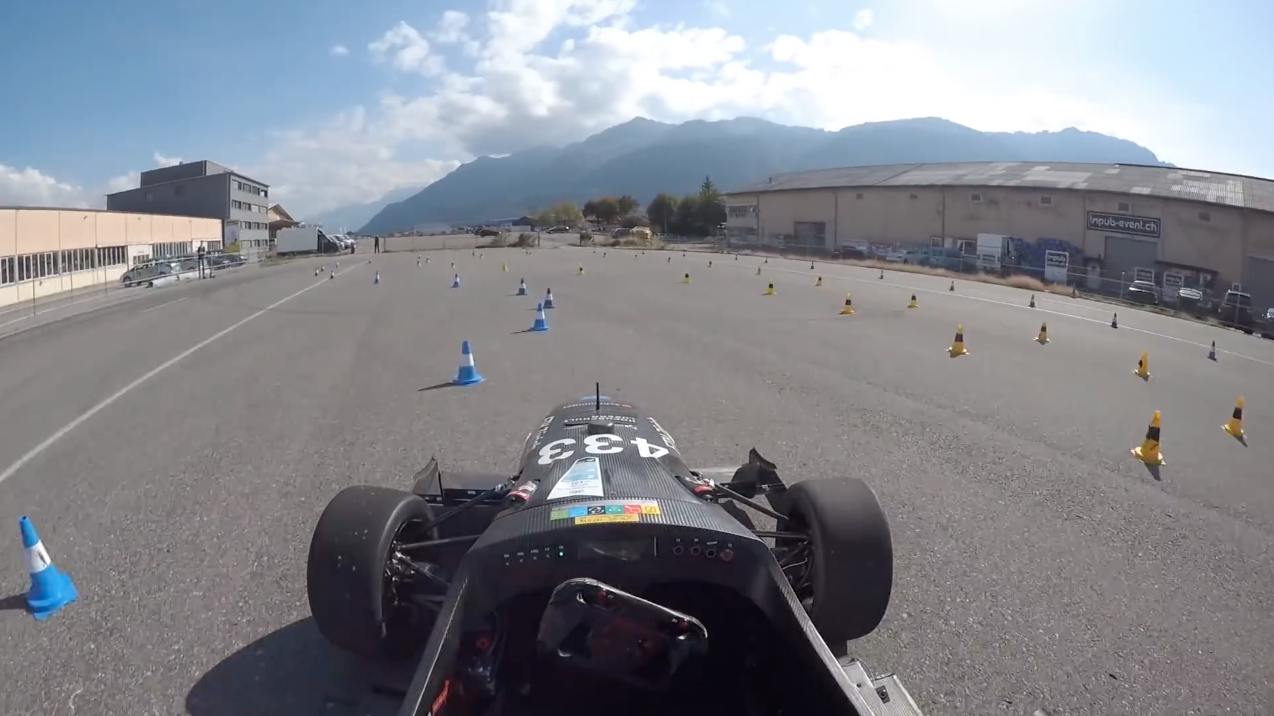lcone: (5, 511, 91, 622), (450, 335, 491, 388), (525, 299, 555, 336)
rcone: (1129, 403, 1173, 468), (1218, 390, 1254, 443), (1128, 347, 1157, 385), (946, 322, 975, 357), (1035, 319, 1054, 343)
